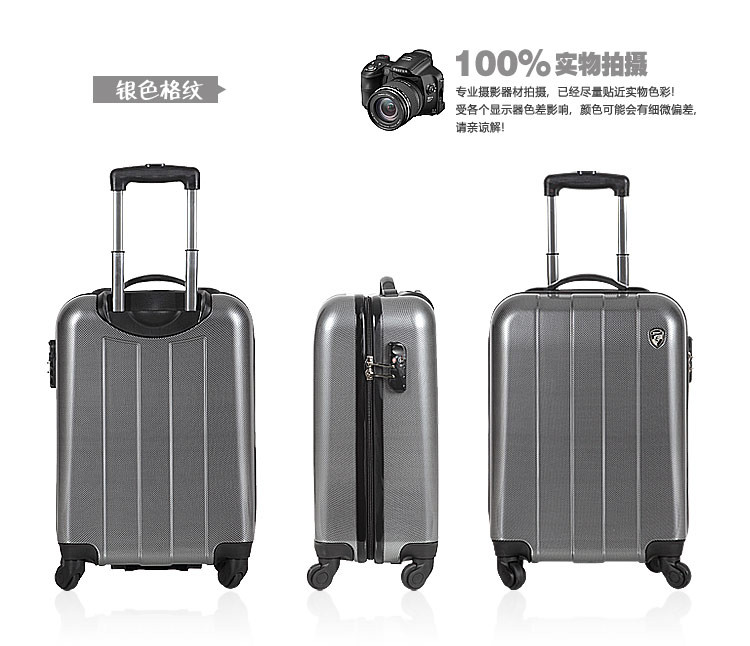luggage: (46, 161, 258, 592), (484, 167, 696, 598), (304, 271, 442, 590)
